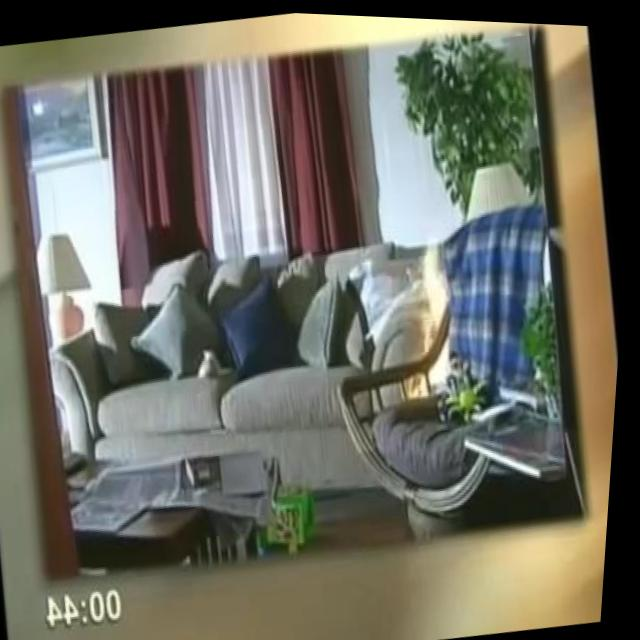fire: (387, 227, 477, 399)
